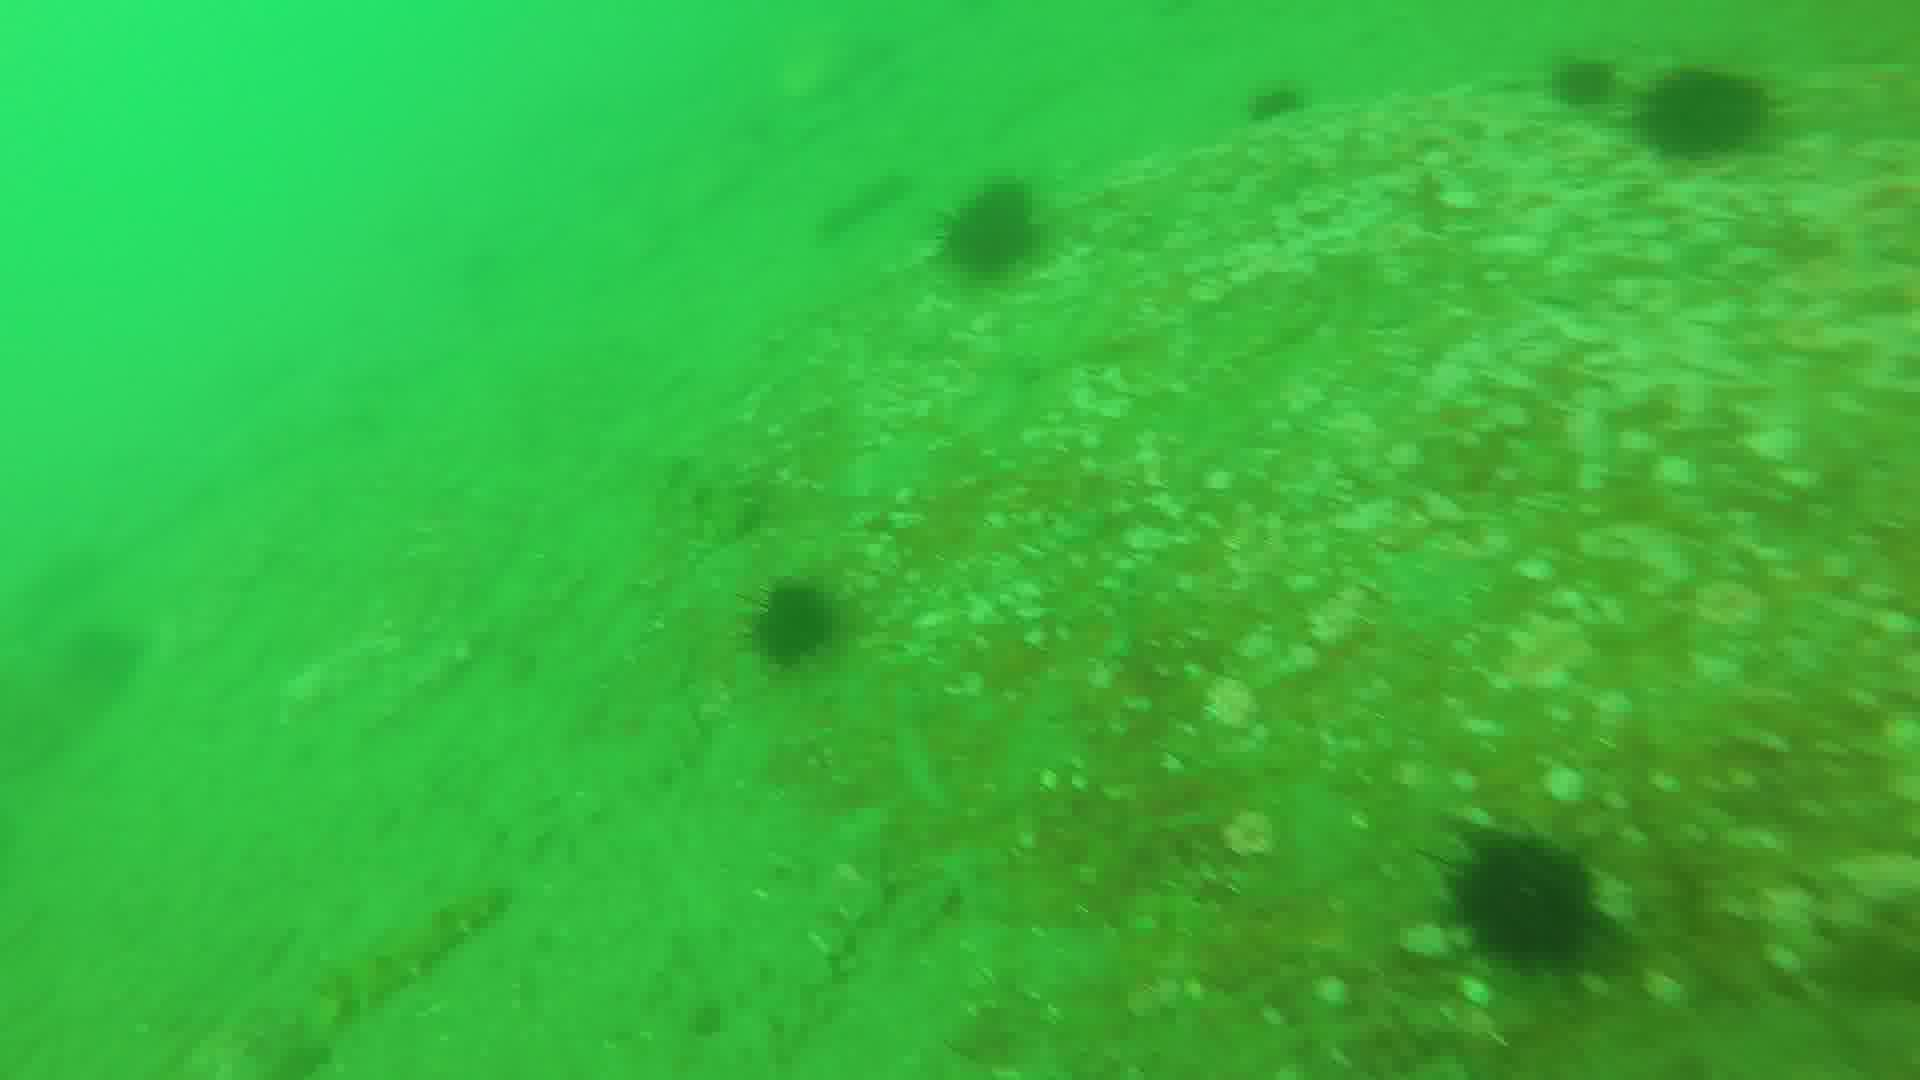echinus: (1456, 828, 1606, 977), (1639, 70, 1778, 175), (942, 186, 1047, 280), (749, 588, 845, 666), (1551, 55, 1622, 115), (1240, 80, 1309, 127)
holothurian: (311, 876, 518, 1029)
